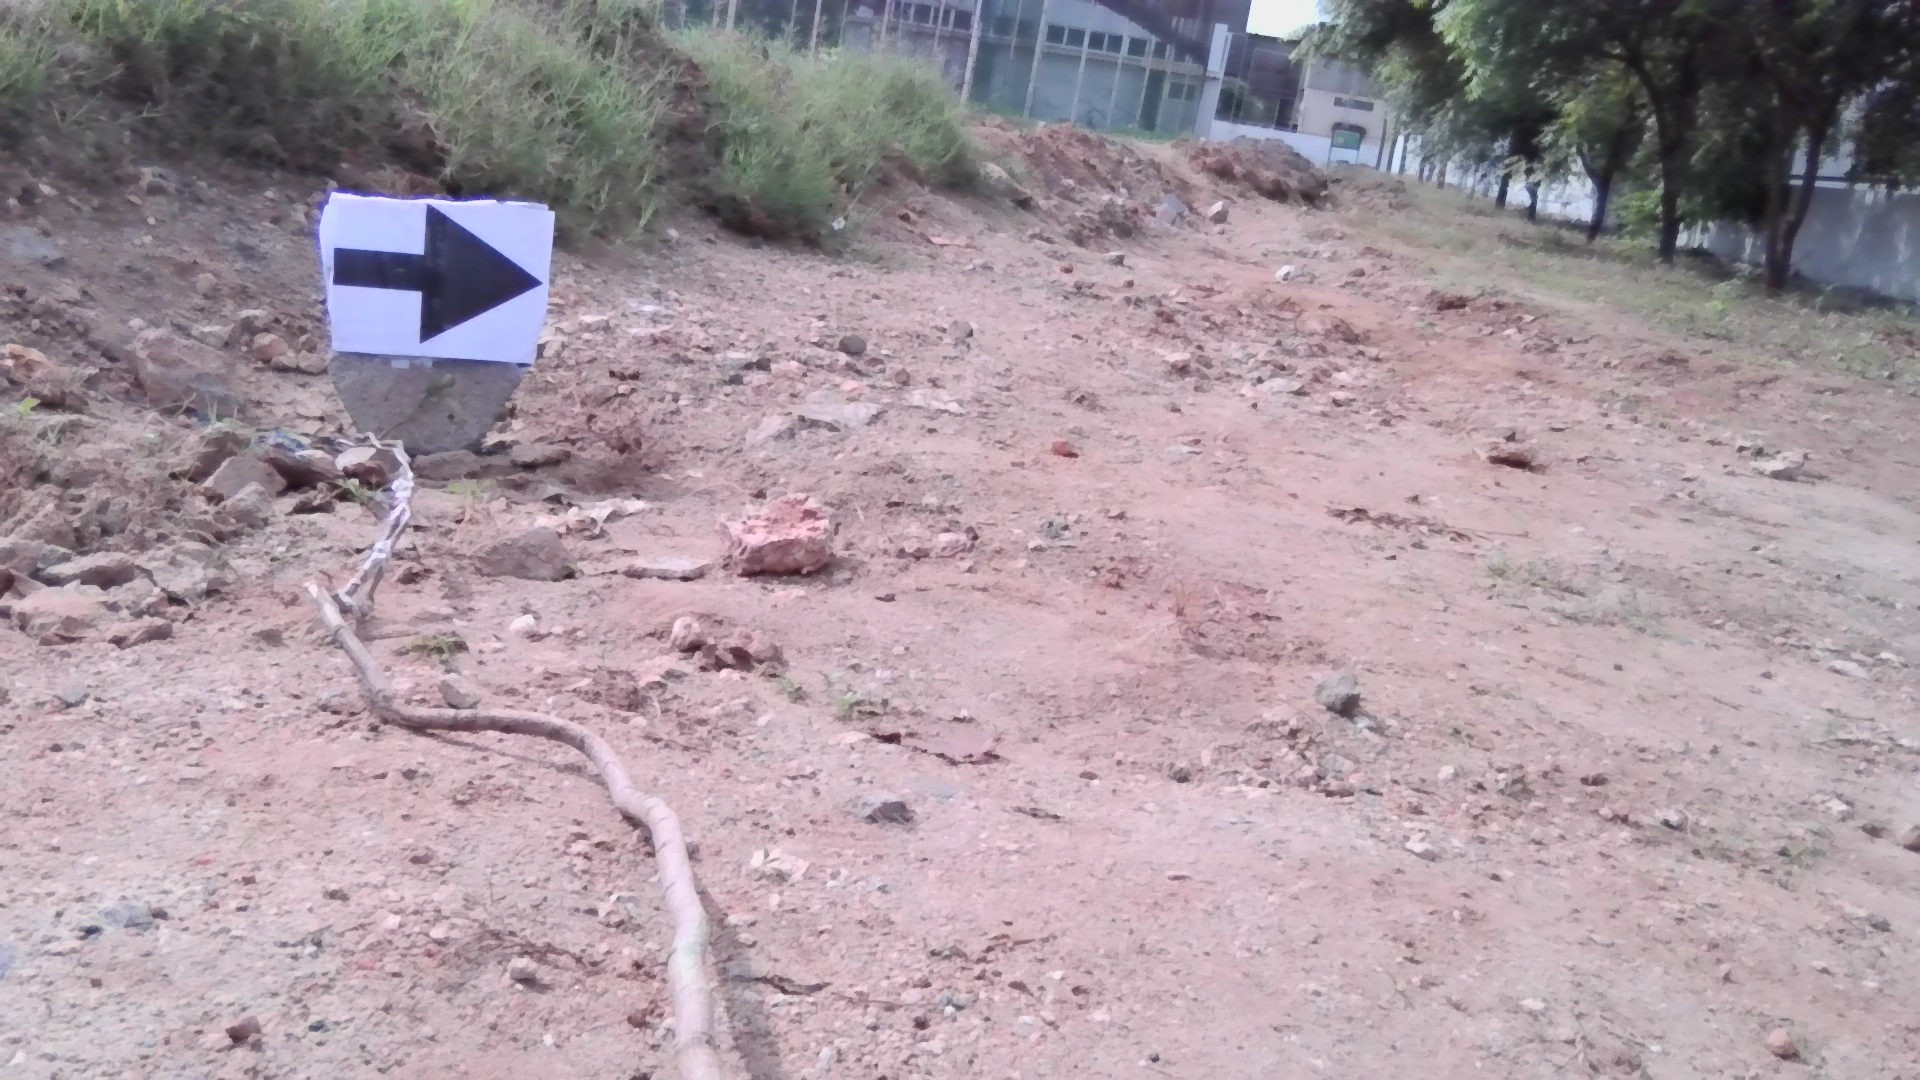leftDir: (322, 208, 553, 355)
